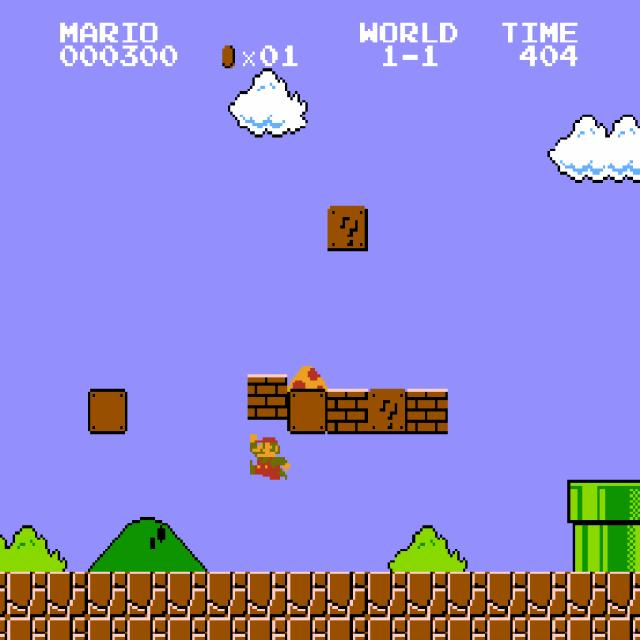brick_block: (327, 389, 368, 434), (407, 389, 448, 434)
empty_block: (87, 389, 128, 434), (287, 389, 328, 434)
little_mario: (247, 432, 290, 480)
mushroom: (285, 363, 327, 392)
mystery_block: (327, 206, 368, 251), (367, 389, 408, 434)
pipe: (567, 526, 608, 571), (607, 525, 640, 571)
pipe_head: (567, 480, 608, 526), (607, 480, 640, 525)
undestructible_block: (7, 572, 48, 617), (47, 572, 88, 617), (87, 572, 128, 617), (127, 572, 168, 617), (167, 572, 208, 617), (207, 572, 248, 617), (247, 572, 288, 617), (287, 572, 328, 617), (327, 572, 368, 617), (367, 572, 408, 617), (407, 572, 448, 617), (447, 572, 488, 617), (487, 572, 528, 617), (527, 572, 568, 617), (567, 572, 608, 617), (607, 571, 640, 617), (7, 617, 48, 640), (47, 617, 88, 640), (87, 617, 128, 640), (127, 617, 168, 640), (167, 617, 208, 640), (207, 617, 248, 640), (247, 617, 288, 640), (287, 617, 328, 640), (327, 617, 368, 640), (367, 617, 408, 640), (407, 617, 448, 640), (447, 617, 488, 640), (487, 617, 528, 640), (527, 617, 568, 640), (567, 617, 608, 640), (607, 617, 640, 639), (0, 572, 7, 617), (0, 617, 7, 640)
